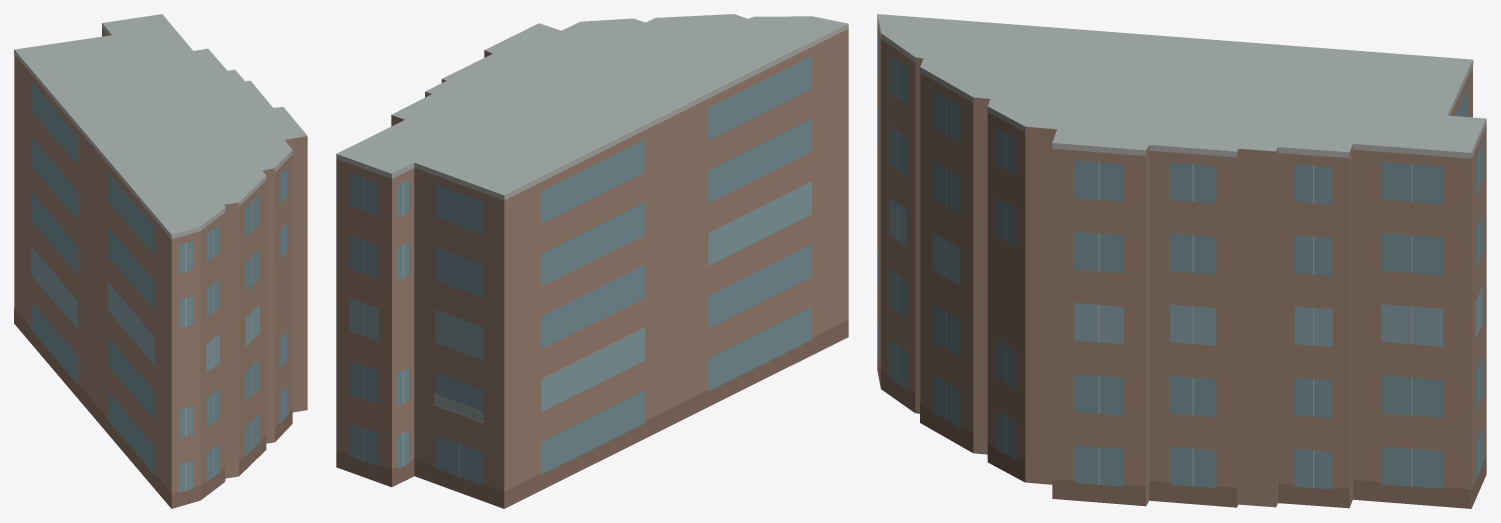
File: survey-upis-32651940.glb
3 views of the same model, side by side, from view 1: azimuth 30°, elevation 25°; view 2: azimuth 150°, elevation 25°; view 3: azimuth 270°, elevation 25° (orthographic). The views are drawn at different scales.
Visible parts, largest first — view 1: survey-upis-32651940.tmp; view 2: survey-upis-32651940.tmp; view 3: survey-upis-32651940.tmp.
Boxes of the visible parts, x1,y1,x2,y2 form: survey-upis-32651940.tmp: (14,14,307,508); survey-upis-32651940.tmp: (336,14,848,508); survey-upis-32651940.tmp: (877,14,1486,508).
Bounding box in the file's own units: 12.53 × 14.95 × 23.2.
